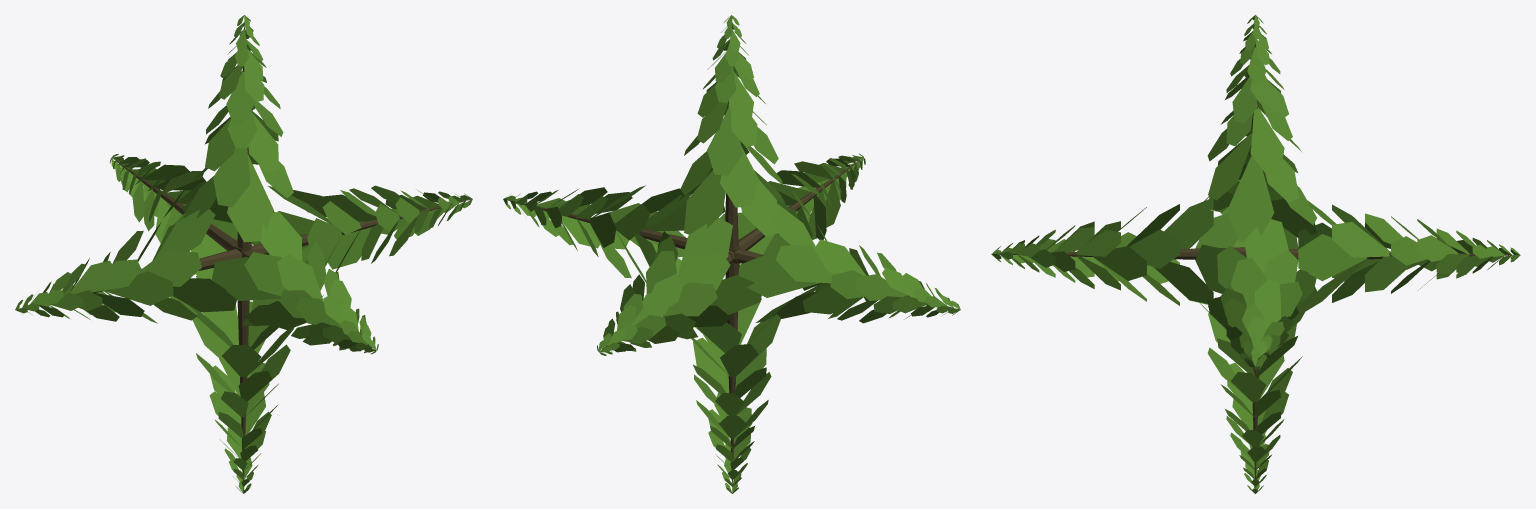
Rendered from The Horror 100.fbx.
3 renders of one model, left to right at view 1: azimuth 30°, elevation 25°; view 2: azimuth 150°, elevation 25°; view 3: azimuth 270°, elevation 25°, orthographic.
Visible parts, largest first — view 1: x axis negative, z axis positive, y axis negative, z axis negative, x axis positive, y axis positive; view 2: z axis positive, x axis negative, y axis positive, z axis negative, x axis positive, y axis negative; view 3: z axis positive, y axis negative, y axis positive, x axis positive, z axis negative, x axis negative.
Boxes of the visible parts, x1=… form: x axis negative: x1=15, y1=209, x2=255, y2=323; z axis positive: x1=183, y1=15, x2=293, y2=249; y axis negative: x1=212, y1=211, x2=378, y2=354; z axis negative: x1=190, y1=245, x2=293, y2=493; x axis positive: x1=238, y1=185, x2=472, y2=272; y axis positive: x1=110, y1=154, x2=274, y2=275; z axis positive: x1=679, y1=15, x2=784, y2=265; x axis negative: x1=734, y1=204, x2=960, y2=323; y axis positive: x1=597, y1=217, x2=761, y2=355; z axis negative: x1=691, y1=245, x2=780, y2=493; x axis positive: x1=503, y1=185, x2=740, y2=282; y axis negative: x1=720, y1=153, x2=865, y2=263; z axis positive: x1=1200, y1=15, x2=1316, y2=241; y axis negative: x1=991, y1=198, x2=1246, y2=305; y axis positive: x1=1288, y1=200, x2=1520, y2=315; x axis positive: x1=1195, y1=219, x2=1316, y2=369; z axis negative: x1=1199, y1=286, x2=1316, y2=493; x axis negative: x1=1195, y1=147, x2=1316, y2=248.
Bounding box in the file's own units: 409656 × 409656 × 409656.
